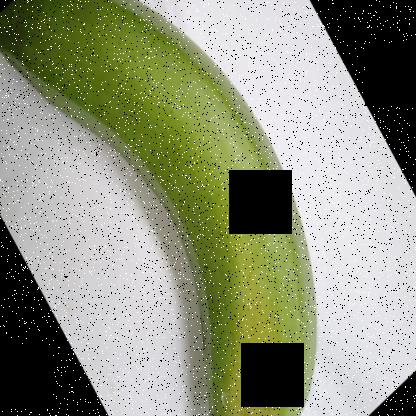freshunripe: (0, 0, 345, 415)
